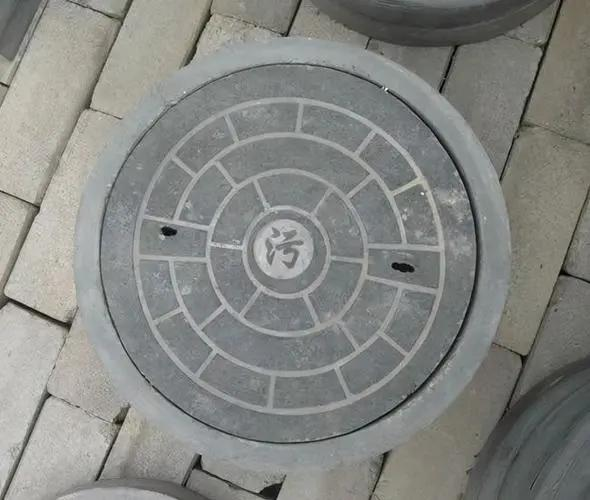wellcover: (90, 60, 495, 449)
